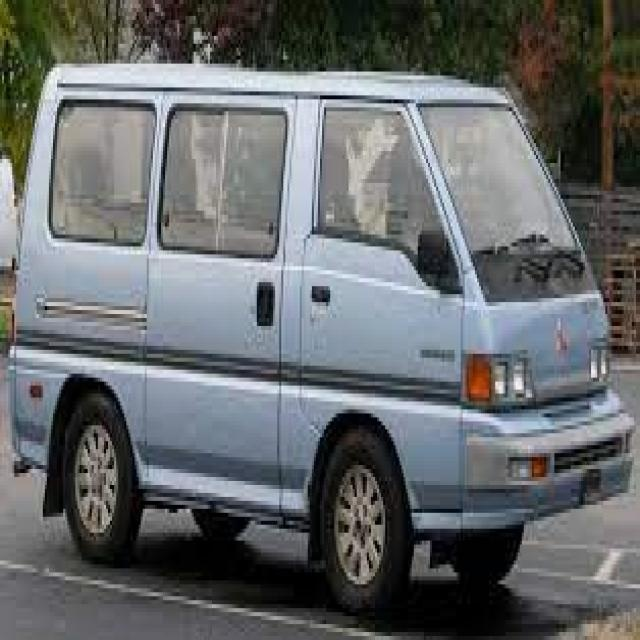Van: (7, 57, 634, 620)
